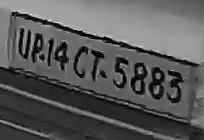1: (45, 37, 55, 68)
3: (166, 68, 184, 103)
4: (54, 42, 72, 70)
5: (111, 56, 130, 89)
8: (130, 61, 149, 96), (149, 67, 165, 99)
C: (72, 45, 89, 78)
P: (29, 31, 46, 64)
T: (90, 49, 103, 81)
U: (17, 26, 31, 67)
